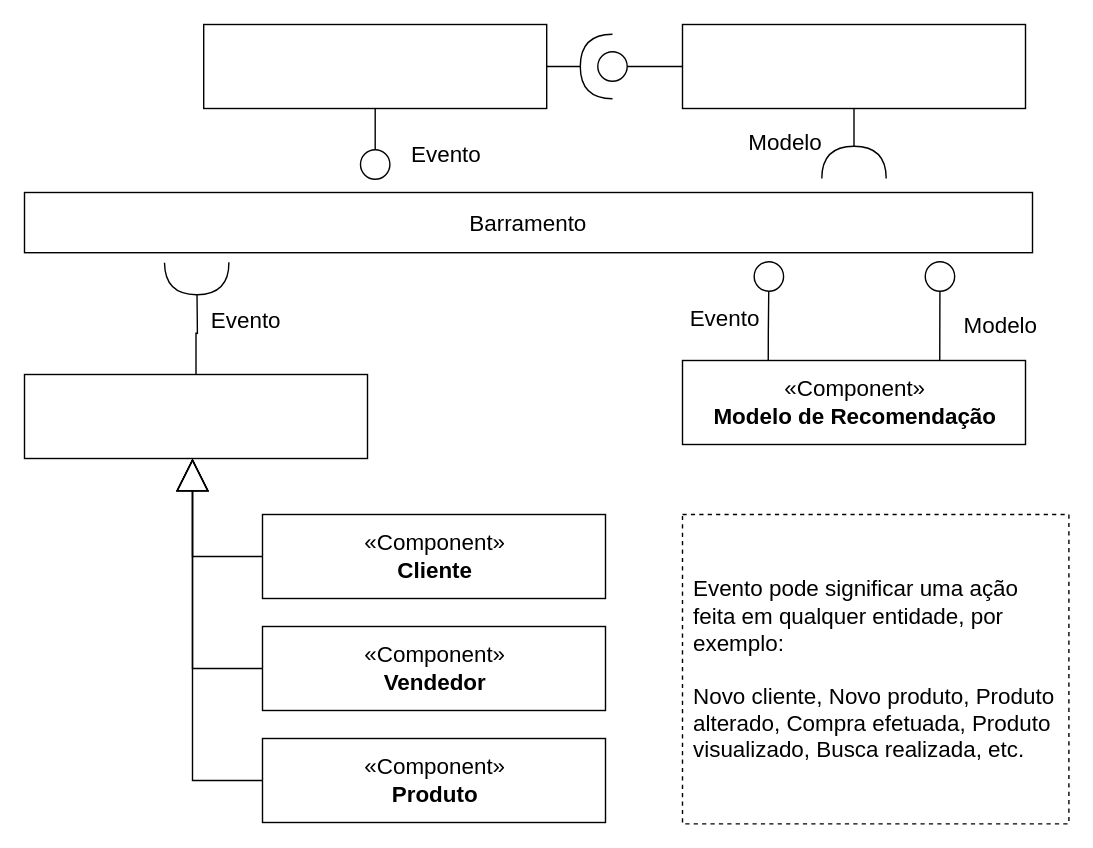
This 1093x848 diagram has some shape labels left out. Each missing label, with the centre of its shape:
«Component» Entidade: point 195,415
«Component» Modelo de Treinamento: point 853,65
«Component» Tratamento de Dados: point 374,65
